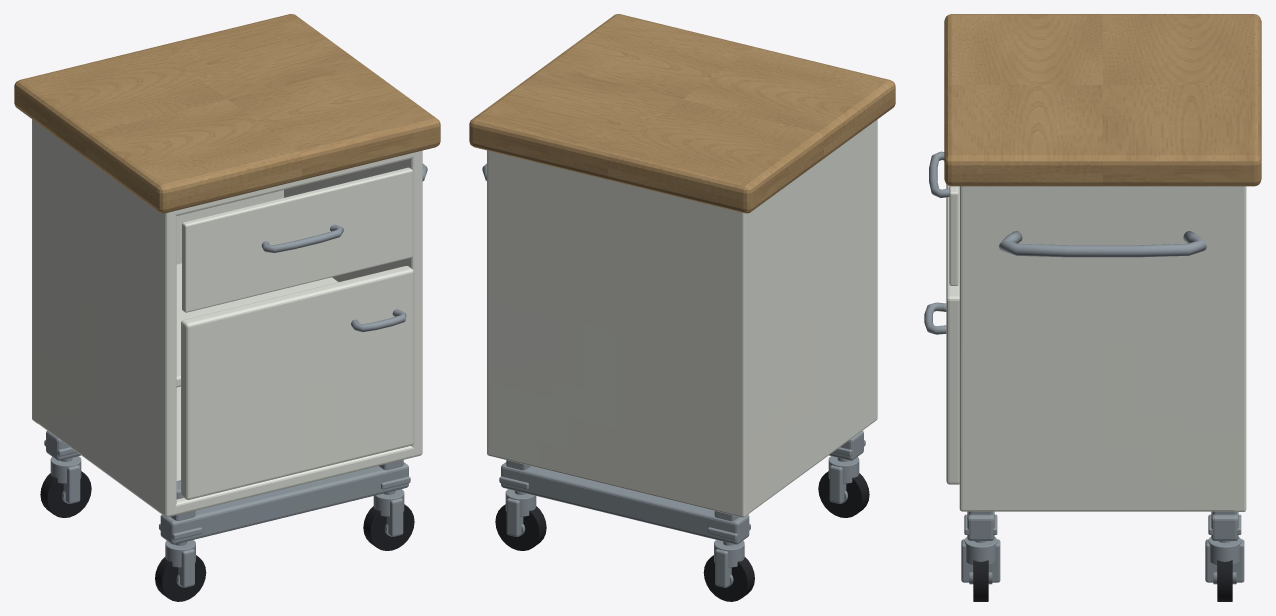
The model's file is crime-patient-bedside.glb.
3 views of the same model, side by side, from view 1: azimuth 30°, elevation 25°; view 2: azimuth 150°, elevation 25°; view 3: azimuth 270°, elevation 25° (orthographic). The views are drawn at different scales.
Parts seen in each view (by area): view 1: Wipe clean bedside top, Cabinet side, Lower cabinet door, Drawer face, Caster base crossbar, Cabinet side.001, Cabinet horizontal, Interior shelf, Cabinet horizontal.001, Cabinet back, Cast polyurethane wheel.002, Cast polyurethane wheel (+4 smaller); view 2: Cabinet back, Wipe clean bedside top, Cabinet side, Caster base crossbar.001, Cast polyurethane wheel.003, Cast polyurethane wheel, Cast polyurethane wheel.001, Caster fork.003, Caster fork; view 3: Cabinet side.001, Wipe clean bedside top, Lower cabinet door, Towel rail, Cabinet back, Drawer face, Caster base crossbar, Caster base crossbar.001, Caster swivel.003, Caster swivel.002, Caster fork.002, Caster fork.003 (+5 smaller).
Part boxes in pixels (x1,y1,x2,y2): Wipe clean bedside top: [14, 14, 440, 213]; Cabinet side: [32, 120, 176, 517]; Lower cabinet door: [181, 266, 413, 499]; Drawer face: [182, 167, 412, 312]; Caster base crossbar: [160, 462, 408, 544]; Cabinet side.001: [284, 151, 422, 456]; Cabinet horizontal: [37, 386, 422, 517]; Interior shelf: [176, 263, 338, 387]; Cabinet horizontal.001: [164, 151, 422, 216]; Cabinet back: [32, 119, 283, 423]; Cast polyurethane wheel.002: [363, 504, 414, 550]; Cast polyurethane wheel: [155, 555, 206, 601]; Cabinet back: [487, 150, 749, 517]; Wipe clean bedside top: [469, 14, 895, 213]; Cabinet side: [745, 119, 877, 514]; Caster base crossbar.001: [501, 462, 749, 544]; Cast polyurethane wheel.003: [495, 504, 546, 550]; Cast polyurethane wheel: [818, 471, 869, 517]; Cast polyurethane wheel.001: [703, 555, 754, 601]; Caster fork.003: [506, 498, 523, 536]; Caster fork: [829, 465, 846, 503]; Cabinet side.001: [959, 186, 1242, 511]; Wipe clean bedside top: [944, 14, 1261, 186]; Lower cabinet door: [946, 184, 959, 484]; Towel rail: [999, 231, 1206, 257]; Cabinet back: [1233, 186, 1246, 511]; Drawer face: [949, 186, 958, 285]; Caster base crossbar: [967, 511, 994, 540]; Caster base crossbar.001: [1211, 511, 1238, 540]; Caster swivel.003: [1208, 537, 1241, 564]; Caster swivel.002: [964, 537, 997, 564]; Caster fork.002: [961, 539, 1000, 582]; Caster fork.003: [1205, 539, 1244, 582].
Size of the model in its own units: 0.6128 by 0.8325 by 0.5525.
4 materials, 4 textured.
